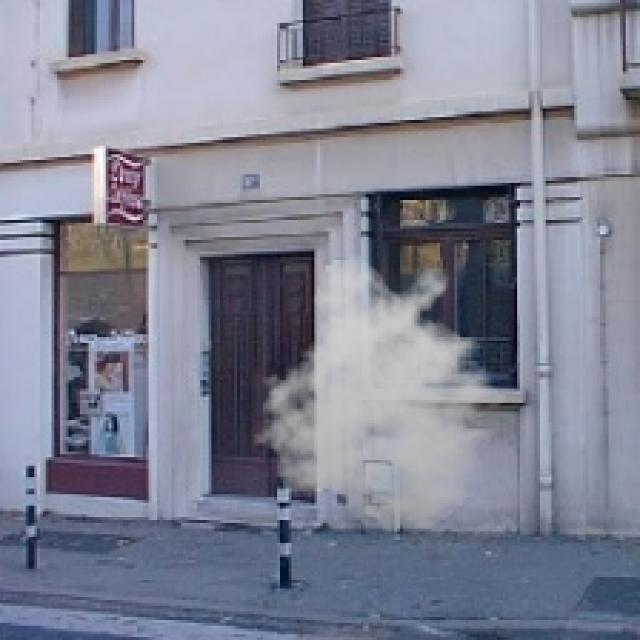smoke: (246, 255, 523, 534)
